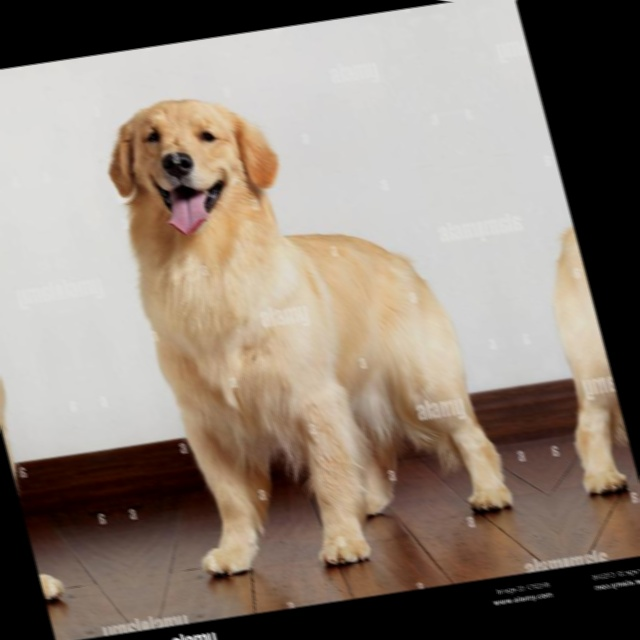dog: (55, 42, 565, 620), (434, 29, 640, 563), (0, 112, 101, 640)
